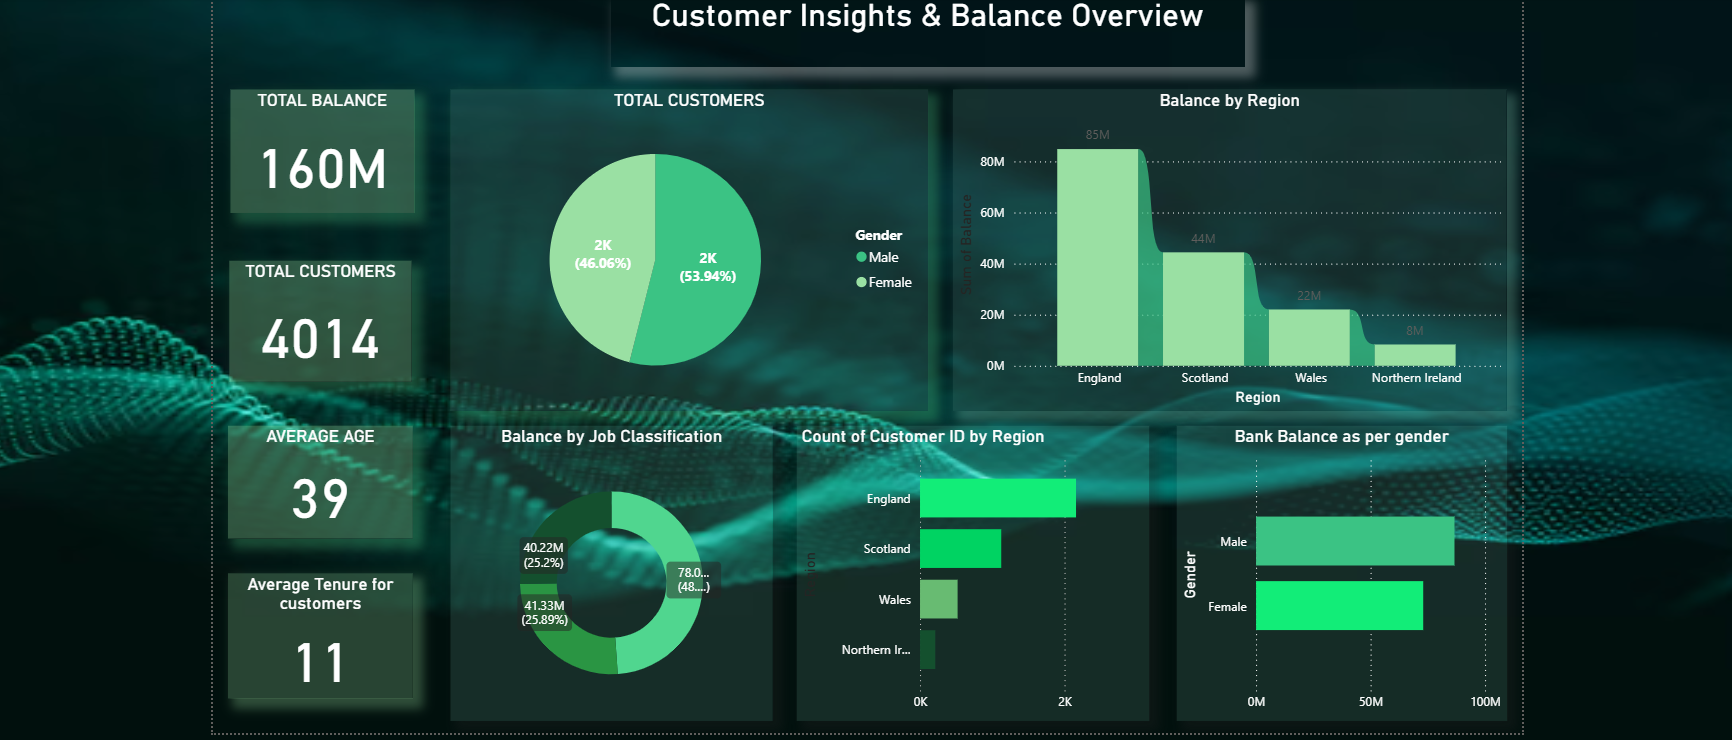

What the dashboard file says about the page in this screenshot:
{"tool":"powerbi","page":{"name":"Page 1","canvas":[1280,720],"ordinal":0},"visuals":[{"type":"card","title":"TOTAL BALANCE","fields":{"Values":["Sum(Data Set.Balance)"]},"box":[17.1,90.5,179.8,121.1],"z":0},{"type":"card","title":"TOTAL CUSTOMERS","fields":{"Values":["CountNonNull(Data Set.Customer ID)"]},"box":[15.9,258,178.5,118.6],"z":1000},{"type":"pieChart","title":"TOTAL CUSTOMERS","fields":{"Y":["CountNonNull(Data Set.Customer ID)"],"Category":["Data Set.Gender"]},"box":[232.3,90.5,467.1,314.3],"z":2000},{"type":"card","title":"AVERAGE AGE","fields":{"Values":["Avg(Data Set.Age)"]},"box":[14.7,419.4,181,110.1],"z":3000},{"type":"columnChart","title":" Balance by Region","fields":{"Y":["Sum(Data Set.Balance)"],"Category":["Data Set.Region"]},"box":[723.9,90.5,541.7,314.3],"z":4000},{"type":"donutChart","title":" Balance by Job Classification","fields":{"Y":["Sum(Data Set.Balance)"],"Category":["Data Set.Job Classification"]},"box":[232.3,419.4,315.5,288.6],"z":5000},{"type":"card","title":"Average Tenure for customers","fields":{"Values":["Avg(Data Set.TENURE)"]},"box":[14.7,563.7,181,122.3],"z":6000},{"type":"clusteredBarChart","fields":{"Category":["Data Set.Region"],"Y":["CountNonNull(Data Set.Customer ID)"]},"box":[571.1,419.4,344.8,288.6],"z":7000},{"type":"barChart","title":"Bank Balance as per gender","fields":{"Category":["Data Set.Gender"],"Y":["Sum(Data Set.Balance)"]},"box":[942.8,419.4,322.8,288.6],"z":8000},{"type":"textbox","title":"Customer Insights & Balance Overview","box":[388.9,0,621.2,68.5],"z":9000}]}

Visuals, with their boxes in screenshot pixels (x1, y1, x2, y2):
"TOTAL BALANCE" card: (117, 101, 299, 223)
"TOTAL CUSTOMERS" card: (115, 270, 296, 391)
"TOTAL CUSTOMERS" pieChart: (335, 101, 808, 419)
"AVERAGE AGE" card: (114, 434, 298, 545)
" Balance by Region" columnChart: (833, 101, 1381, 419)
" Balance by Job Classification" donutChart: (335, 434, 654, 726)
"Average Tenure for customers" card: (114, 580, 298, 704)
clusteredBarChart - Data Set.Region x CountNonNull(Data Set.Customer ID): (678, 434, 1027, 726)
"Bank Balance as per gender" barChart: (1054, 434, 1381, 726)
"Customer Insights & Balance Overview" textbox: (493, 9, 1123, 78)
